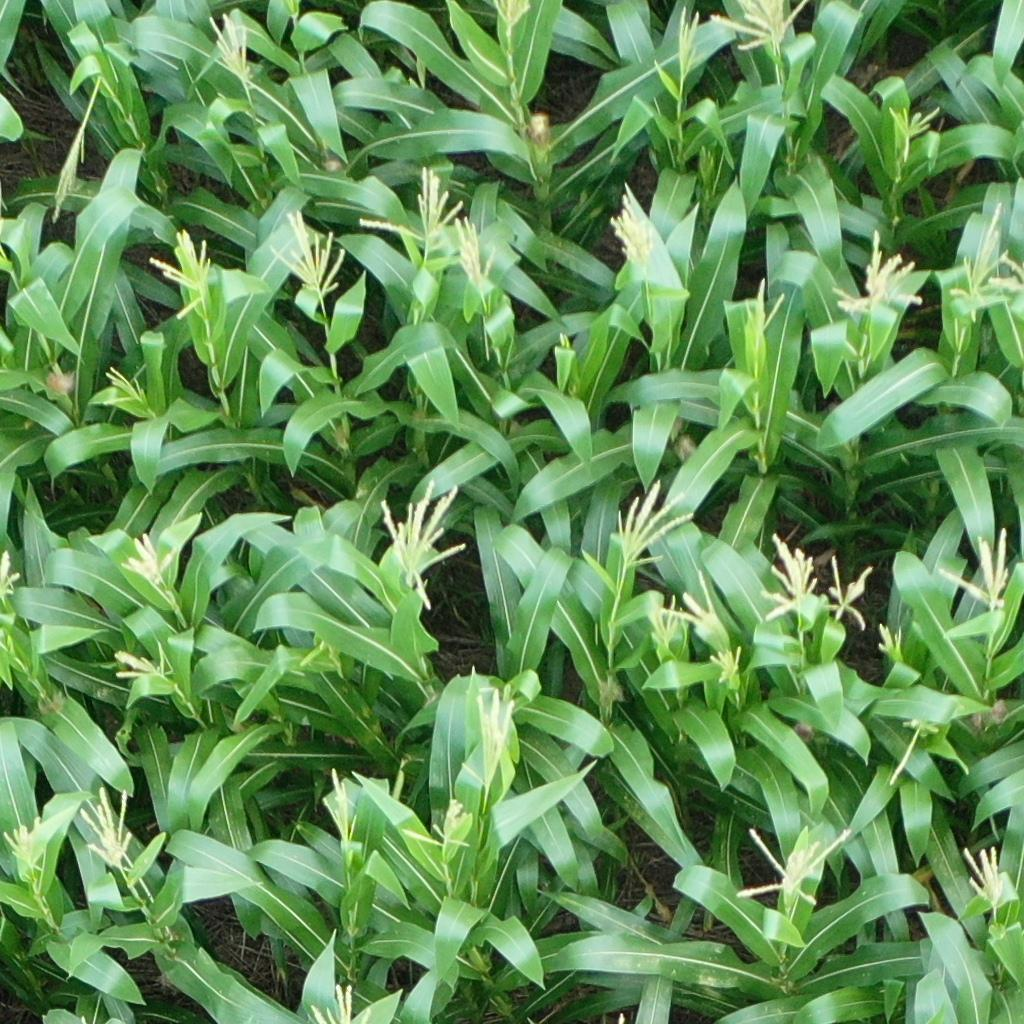Tassel: (377, 475, 468, 616), (736, 823, 851, 914), (357, 167, 466, 243), (830, 228, 919, 319), (610, 476, 697, 569), (933, 524, 1013, 614), (271, 209, 347, 300), (949, 195, 1002, 325), (142, 223, 212, 317), (759, 526, 820, 623), (75, 785, 140, 871), (710, 1, 810, 52), (604, 191, 658, 281), (48, 125, 93, 230), (659, 569, 720, 641), (471, 682, 511, 784), (959, 840, 1010, 917), (202, 9, 254, 84), (887, 718, 945, 784), (405, 795, 471, 848), (825, 554, 872, 628), (317, 761, 361, 840), (1, 813, 55, 877), (673, 4, 712, 89), (451, 218, 495, 292), (889, 104, 945, 162), (120, 531, 171, 592), (112, 641, 169, 689), (307, 982, 371, 1024), (742, 279, 787, 338), (643, 592, 684, 649), (994, 250, 1024, 318), (96, 365, 141, 406), (491, 1, 535, 38), (707, 639, 742, 684), (1, 546, 23, 608), (877, 622, 899, 661)
